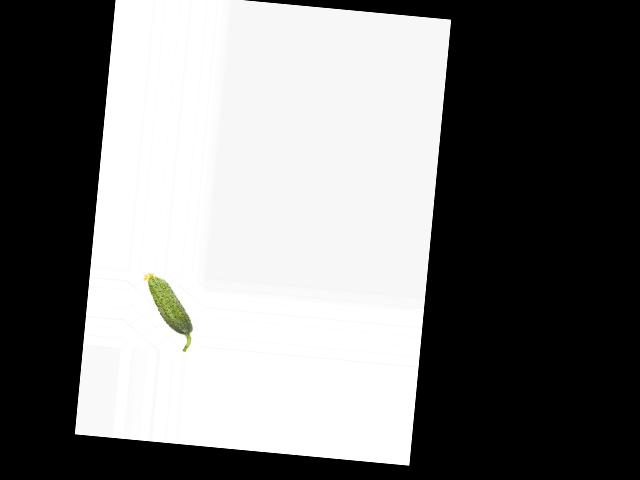cucumber: (136, 271, 197, 351)
